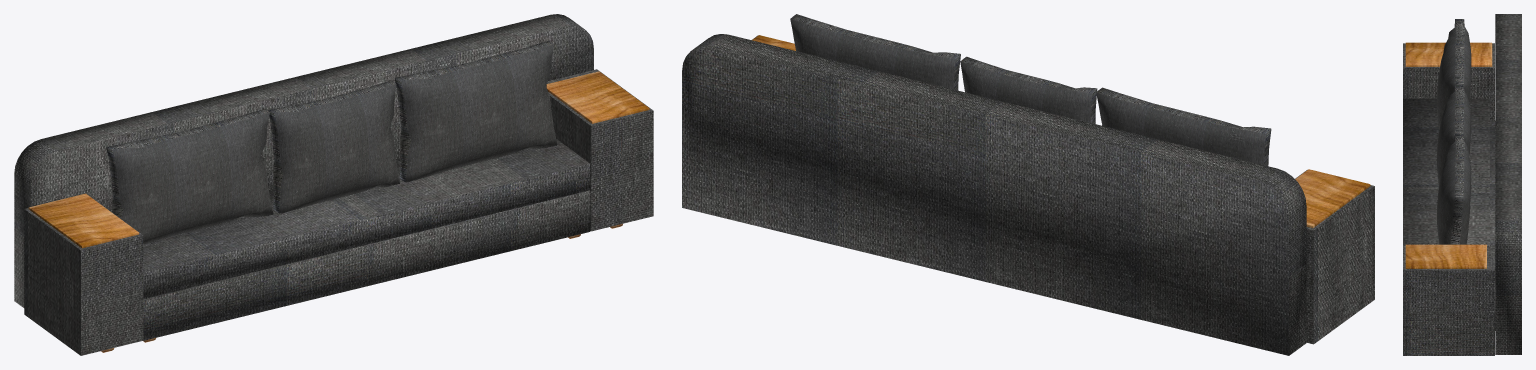
Rendered from Диван-кровать_Атланта.glb.
3 renders of one model, left to right at view 1: azimuth 30°, elevation 25°; view 2: azimuth 150°, elevation 25°; view 3: azimuth 270°, elevation 25°, orthographic. The views are drawn at different scales.
Parts seen in each view (by area): view 1: Диван, Подушка, Тёмная_дерево; view 2: Диван, Подушка, Тёмная_дерево; view 3: Диван, Подушка, Тёмная_дерево.
Boxes of the visible parts, box(x1,y1,x2,y2) form: Диван: box(14, 14, 653, 355); Подушка: box(106, 40, 557, 244); Тёмная_дерево: box(28, 71, 649, 248); Диван: box(682, 34, 1374, 355); Подушка: box(790, 14, 1271, 165); Тёмная_дерево: box(752, 35, 1370, 228); Диван: box(1403, 14, 1521, 355); Подушка: box(1436, 19, 1471, 244); Тёмная_дерево: box(1405, 42, 1492, 268).
Size of the model in its own units: 4.89 by 1.42 by 1.08.
Materials: 3 (3 with a texture image).
